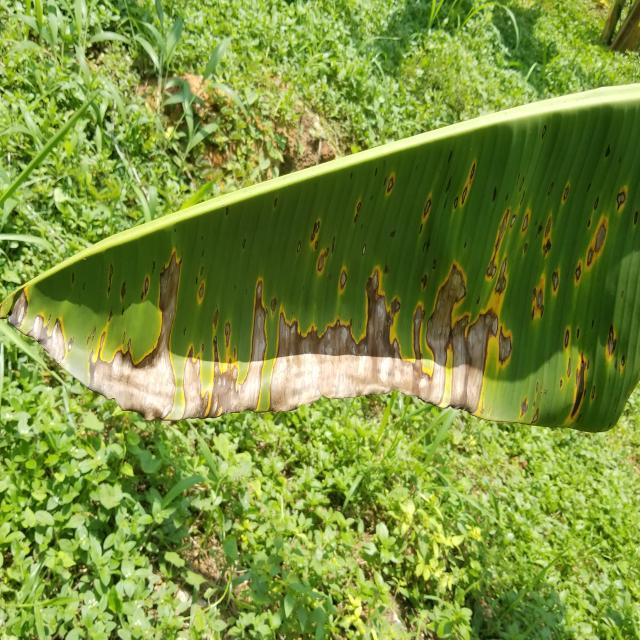Early_rust: (5, 148, 636, 418)
